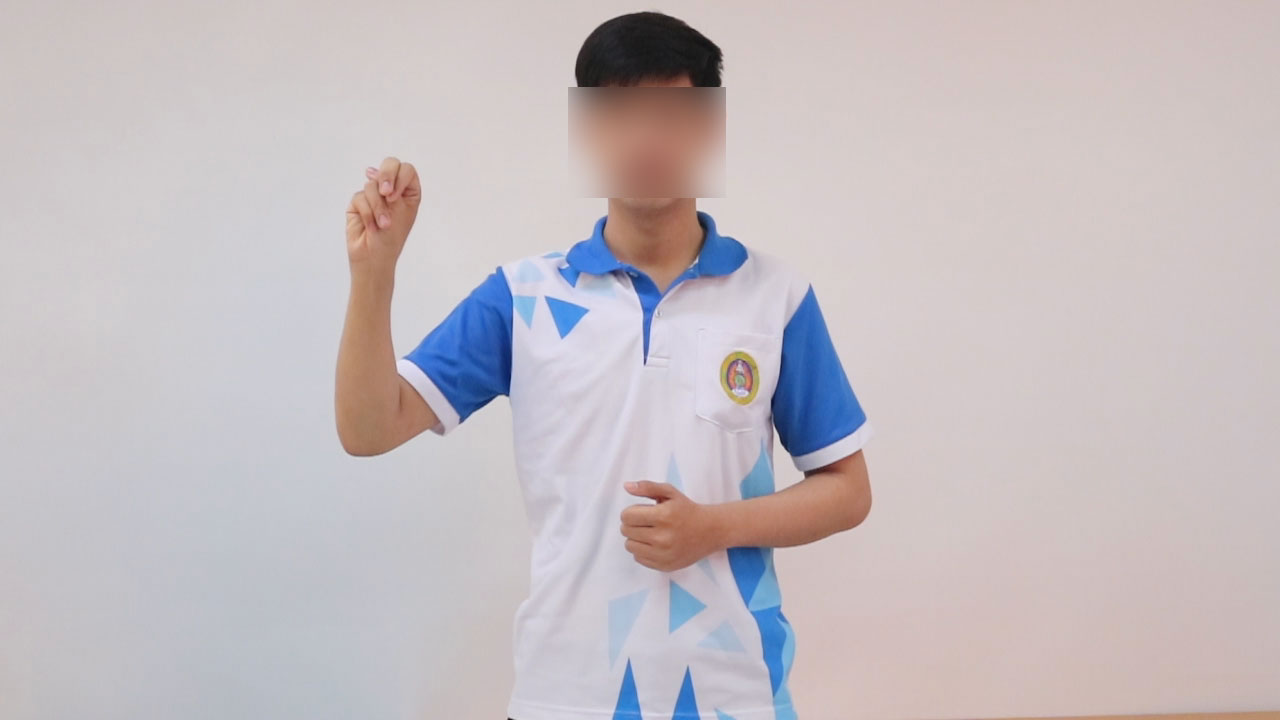nor: (331, 147, 437, 261)
